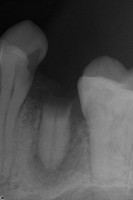Furcation Involvement: (28, 122, 84, 189)
